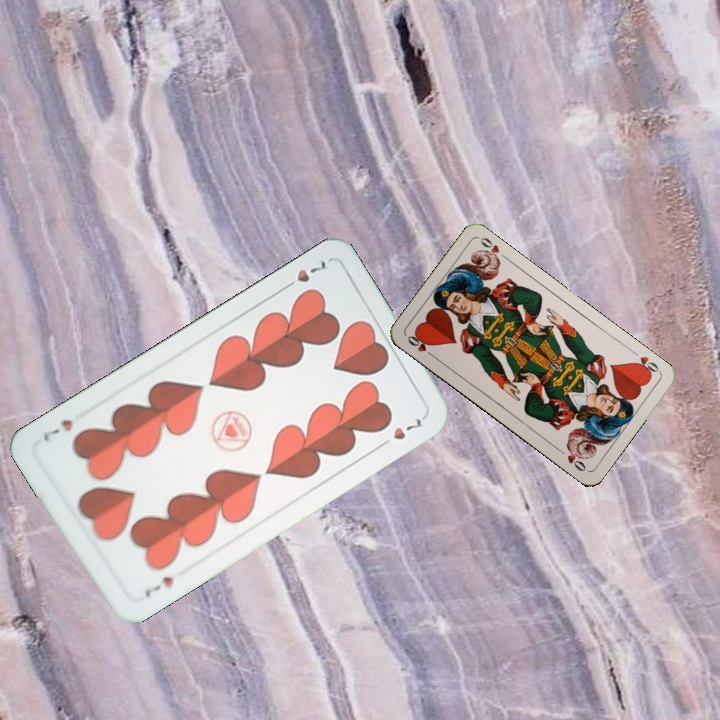H7: (278, 255, 331, 294), (140, 572, 176, 600)
HO: (627, 346, 662, 379), (403, 330, 438, 361)
